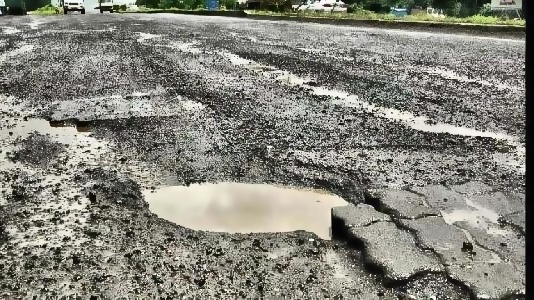pothole: (138, 173, 392, 243)
